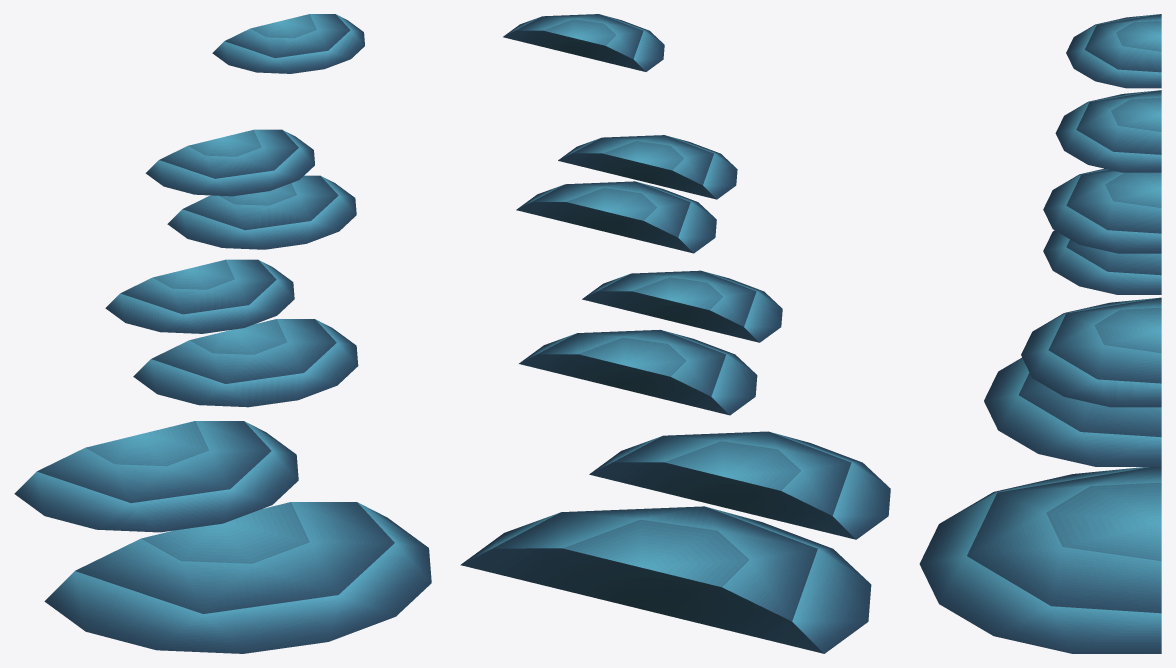
Rendered from Mushroom_6A.fbx.
3 views of the same model, side by side, from view 1: azimuth 30°, elevation 25°; view 2: azimuth 150°, elevation 25°; view 3: azimuth 270°, elevation 25° (orthographic). The views are drawn at different scales.
Parts seen in each view (by area): view 1: Mushroom_6A; view 2: Mushroom_6A; view 3: Mushroom_6A.
Part boxes in pixels (<box>): Mushroom_6A: <box>14,14,431,653</box>; Mushroom_6A: <box>460,14,890,653</box>; Mushroom_6A: <box>919,14,1161,653</box>.
Bounding box in the file's own units: 0.9233 × 1.23 × 0.4826.
